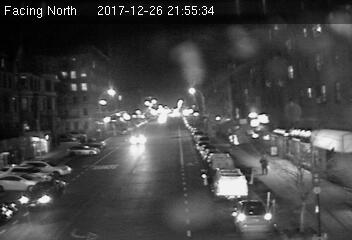car: (232, 200, 274, 232), (20, 178, 65, 207), (129, 133, 146, 145)
pedestrian: (258, 155, 271, 178)
truck: (213, 167, 248, 203)
